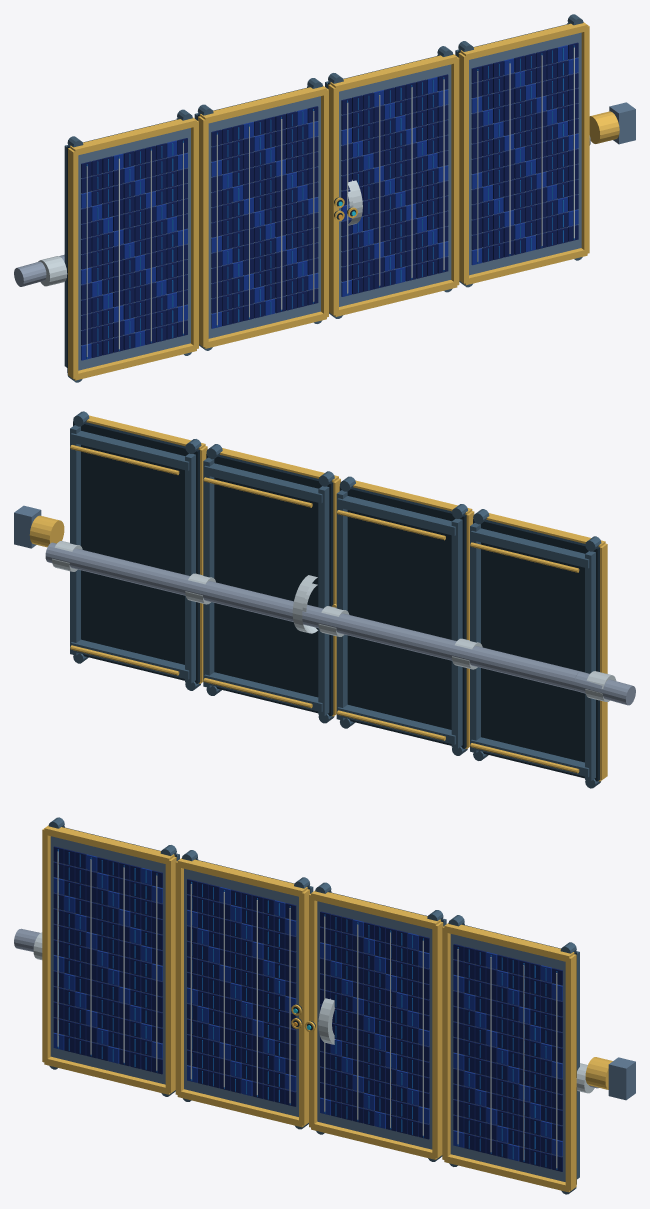
File: 06_L83_DeployableSolarWingStarboard.fbx
3 renders of one model, top to bottom at view 1: azimuth 30°, elevation 25°; view 2: azimuth 150°, elevation 25°; view 3: azimuth 330°, elevation 25°, orthographic. The views are drawn at different scales.
Parts seen in each view (by area): view 1: DeployableSolarWingStarboard_Part_0281, DeployableSolarWingStarboard_Part_0841, DeployableSolarWingStarboard_Part_0561, DeployableSolarWingStarboard_Part_0001, DeployableSolarWingStarboard_Part_0004, DeployableSolarWingStarboard_Part_0844, DeployableSolarWingStarboard_Part_0284, DeployableSolarWingStarboard_Part_0564, DeployableSolarWingStarboard_Part_0845, DeployableSolarWingStarboard_Part_0565, DeployableSolarWingStarboard_Part_0005, DeployableSolarWingStarboard_Part_0285 (+13 smaller); view 2: DeployableSolarWingStarboard_Part_0280, DeployableSolarWingStarboard_Part_0000, DeployableSolarWingStarboard_Part_0840, DeployableSolarWingStarboard_Part_0560, DeployableSolarWingStarboard_Part_1121, DeployableSolarWingStarboard_Part_0836, DeployableSolarWingStarboard_Part_0556, DeployableSolarWingStarboard_Part_0557, DeployableSolarWingStarboard_Part_1116, DeployableSolarWingStarboard_Part_0276, DeployableSolarWingStarboard_Part_0837, DeployableSolarWingStarboard_Part_1117 (+29 smaller); view 3: DeployableSolarWingStarboard_Part_0841, DeployableSolarWingStarboard_Part_0001, DeployableSolarWingStarboard_Part_0561, DeployableSolarWingStarboard_Part_0281, DeployableSolarWingStarboard_Part_0845, DeployableSolarWingStarboard_Part_0005, DeployableSolarWingStarboard_Part_0565, DeployableSolarWingStarboard_Part_0285, DeployableSolarWingStarboard_Part_0284, DeployableSolarWingStarboard_Part_0844, DeployableSolarWingStarboard_Part_0004, DeployableSolarWingStarboard_Part_0564 (+12 smaller).
Boxes of the visible parts, bbox=[...] form: DeployableSolarWingStarboard_Part_0281: bbox=[208, 96, 320, 338]; DeployableSolarWingStarboard_Part_0841: bbox=[469, 32, 581, 275]; DeployableSolarWingStarboard_Part_0561: bbox=[339, 64, 451, 306]; DeployableSolarWingStarboard_Part_0001: bbox=[78, 128, 190, 370]; DeployableSolarWingStarboard_Part_0004: bbox=[68, 148, 78, 378]; DeployableSolarWingStarboard_Part_0844: bbox=[458, 52, 468, 283]; DeployableSolarWingStarboard_Part_0284: bbox=[198, 116, 208, 347]; DeployableSolarWingStarboard_Part_0564: bbox=[328, 84, 338, 315]; DeployableSolarWingStarboard_Part_0845: bbox=[581, 25, 589, 254]; DeployableSolarWingStarboard_Part_0565: bbox=[451, 57, 459, 285]; DeployableSolarWingStarboard_Part_0005: bbox=[191, 120, 198, 348]; DeployableSolarWingStarboard_Part_0285: bbox=[321, 88, 328, 317]; DeployableSolarWingStarboard_Part_0280: bbox=[339, 486, 466, 748]; DeployableSolarWingStarboard_Part_0000: bbox=[473, 519, 599, 781]; DeployableSolarWingStarboard_Part_0840: bbox=[73, 421, 199, 683]; DeployableSolarWingStarboard_Part_0560: bbox=[206, 454, 333, 716]; DeployableSolarWingStarboard_Part_1121: bbox=[45, 542, 580, 690]; DeployableSolarWingStarboard_Part_0836: bbox=[318, 486, 329, 715]; DeployableSolarWingStarboard_Part_0556: bbox=[451, 518, 462, 748]; DeployableSolarWingStarboard_Part_0557: bbox=[336, 490, 347, 720]; DeployableSolarWingStarboard_Part_1116: bbox=[185, 453, 195, 683]; DeployableSolarWingStarboard_Part_0276: bbox=[585, 551, 595, 780]; DeployableSolarWingStarboard_Part_0837: bbox=[203, 457, 214, 687]; DeployableSolarWingStarboard_Part_1117: bbox=[70, 425, 80, 655]; DeployableSolarWingStarboard_Part_0841: bbox=[450, 934, 565, 1181]; DeployableSolarWingStarboard_Part_0001: bbox=[50, 836, 165, 1084]; DeployableSolarWingStarboard_Part_0561: bbox=[317, 901, 432, 1149]; DeployableSolarWingStarboard_Part_0281: bbox=[184, 868, 298, 1116]; DeployableSolarWingStarboard_Part_0845: bbox=[565, 954, 576, 1190]; DeployableSolarWingStarboard_Part_0005: bbox=[165, 856, 176, 1093]; DeployableSolarWingStarboard_Part_0565: bbox=[432, 921, 443, 1158]; DeployableSolarWingStarboard_Part_0285: bbox=[299, 889, 309, 1125]; DeployableSolarWingStarboard_Part_0284: bbox=[175, 861, 183, 1095]; DeployableSolarWingStarboard_Part_0844: bbox=[442, 926, 450, 1160]; DeployableSolarWingStarboard_Part_0004: bbox=[42, 828, 50, 1063]; DeployableSolarWingStarboard_Part_0564: bbox=[309, 893, 317, 1127].
Bounding box in the file's own units: 776 × 297 × 74.95.
